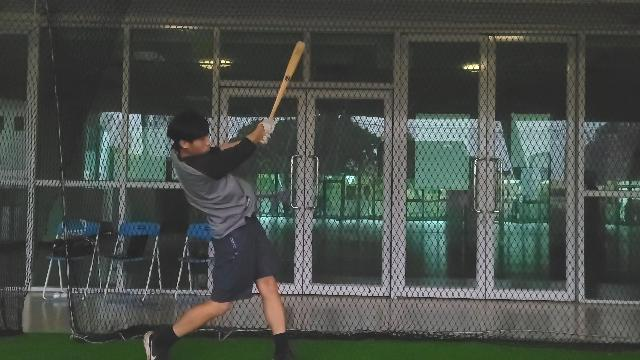bat: (268, 39, 306, 123)
